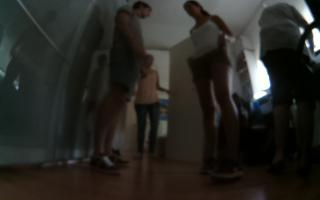person: (179, 1, 254, 184), (86, 1, 153, 178), (257, 3, 316, 179), (132, 48, 180, 166)
